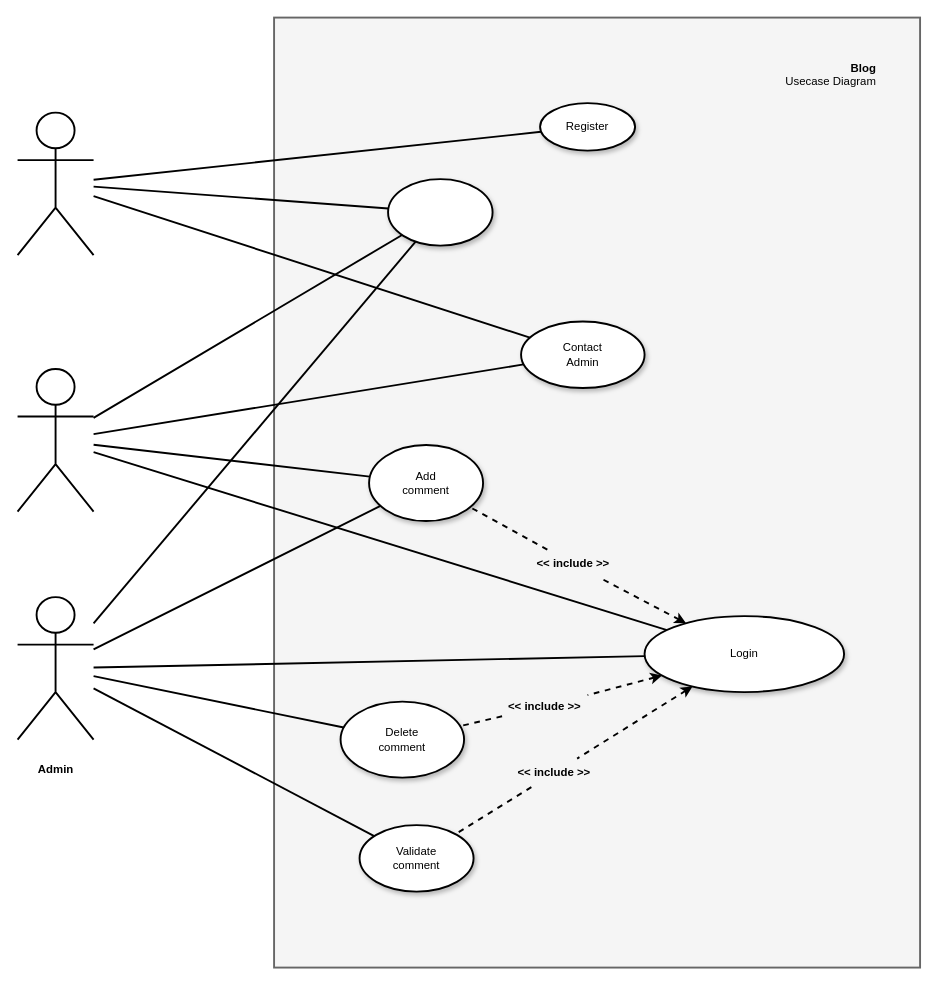
The diagram is 937 pixels wide and 984 high, and some of its shapes have lost their labels. The centre of each missing label's shape, as x and y in pixels:
"Read articles" goes at [441,213].
"User" goes at [55,440].
"Visitor" goes at [55,183].
